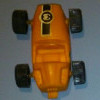naranja_norte: (14, 3, 85, 97)
